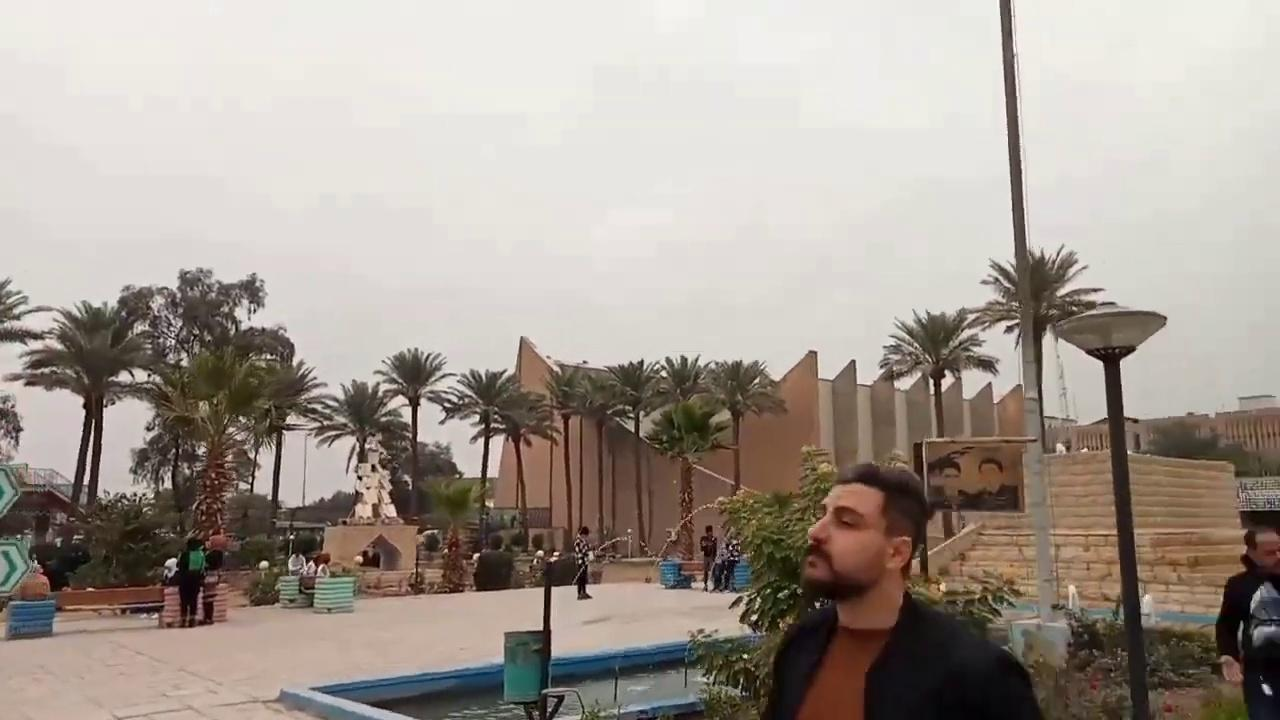fountain: (279, 576, 1240, 718)
person: (759, 461, 1044, 719), (1214, 475, 1279, 719), (175, 537, 207, 627), (572, 525, 594, 600), (698, 524, 716, 592), (161, 553, 179, 586), (359, 543, 380, 568)
tree: (963, 242, 1115, 621), (115, 265, 295, 541), (684, 442, 837, 717), (5, 298, 163, 519), (877, 306, 999, 578), (167, 345, 267, 543), (641, 353, 729, 563), (700, 357, 787, 555), (877, 306, 998, 437), (437, 366, 521, 550), (307, 378, 409, 523), (372, 346, 455, 520), (476, 387, 558, 551), (562, 370, 630, 559), (248, 357, 327, 517), (135, 362, 205, 535), (602, 357, 661, 555), (230, 324, 295, 497), (66, 490, 176, 588), (0, 274, 53, 463), (536, 363, 587, 551), (418, 474, 491, 591), (0, 275, 53, 346), (0, 390, 23, 462)
